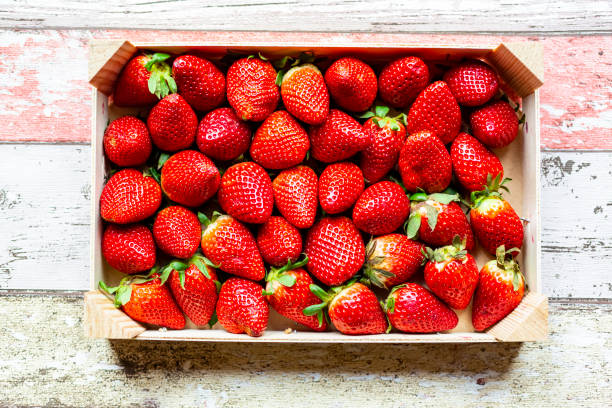Fresa: (302, 210, 369, 290), (201, 208, 269, 284), (404, 187, 479, 254), (404, 74, 468, 152), (222, 50, 287, 126), (112, 271, 189, 333), (380, 280, 466, 335), (471, 249, 527, 332), (264, 264, 330, 332), (165, 256, 226, 329), (246, 107, 313, 173), (468, 185, 525, 260), (449, 127, 509, 198), (218, 157, 276, 230), (363, 231, 434, 288), (308, 102, 371, 166), (359, 106, 409, 186), (421, 245, 479, 313), (167, 50, 229, 113), (349, 177, 413, 238), (323, 281, 393, 336), (100, 167, 163, 228), (216, 276, 275, 341), (193, 104, 256, 164), (160, 147, 223, 207), (278, 62, 335, 127), (109, 50, 173, 107), (273, 162, 321, 237), (400, 131, 454, 197), (376, 52, 433, 114), (324, 51, 380, 113), (149, 200, 206, 260), (144, 89, 197, 152), (102, 217, 158, 276), (102, 110, 156, 167), (444, 57, 499, 111), (470, 92, 520, 150), (256, 212, 304, 272), (317, 160, 365, 217)
